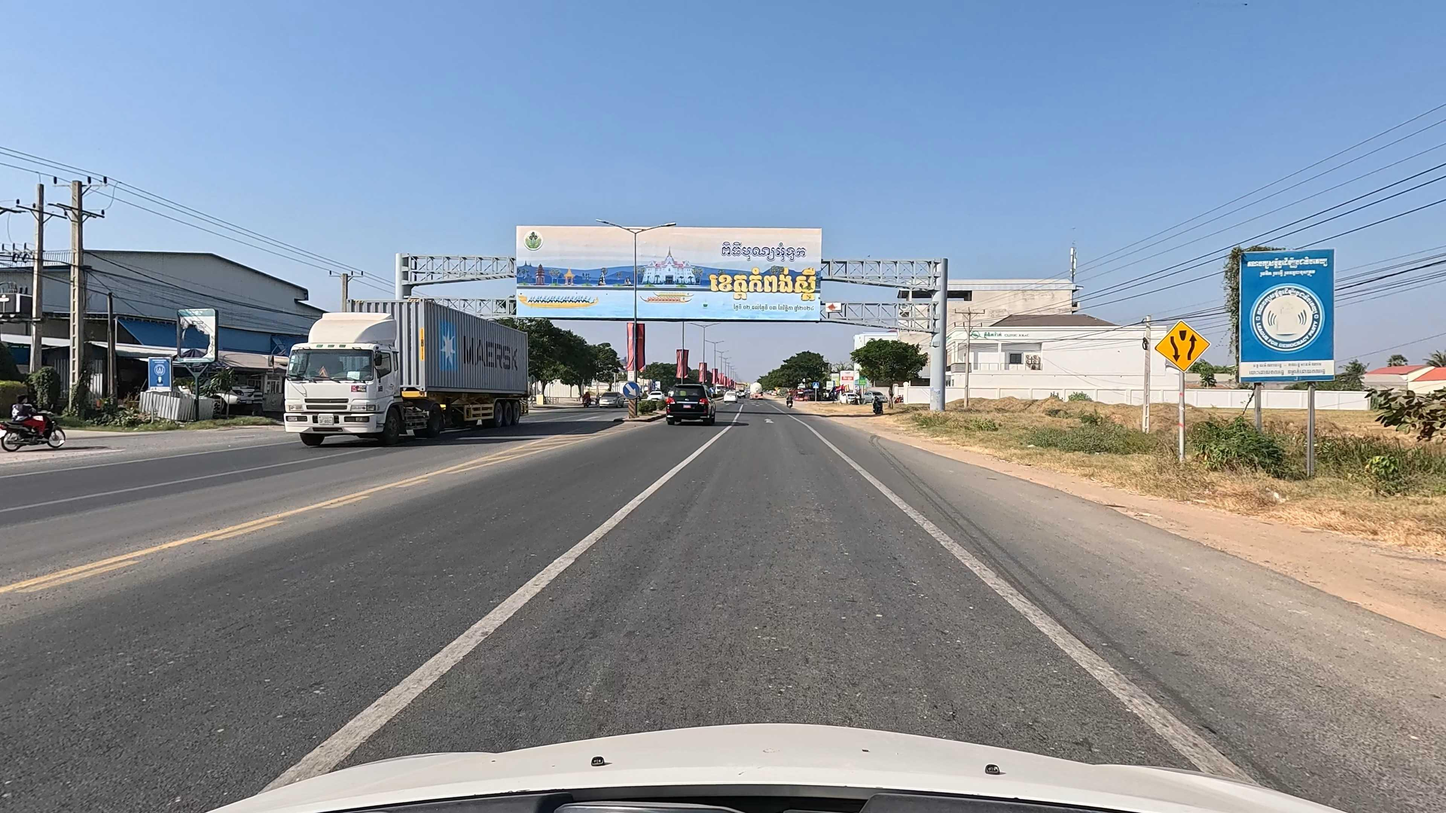keep_right: (622, 381, 640, 399)
pedestrian_crossing: (810, 382, 820, 390)
two_way_traffic_ahead: (1155, 320, 1213, 373)
